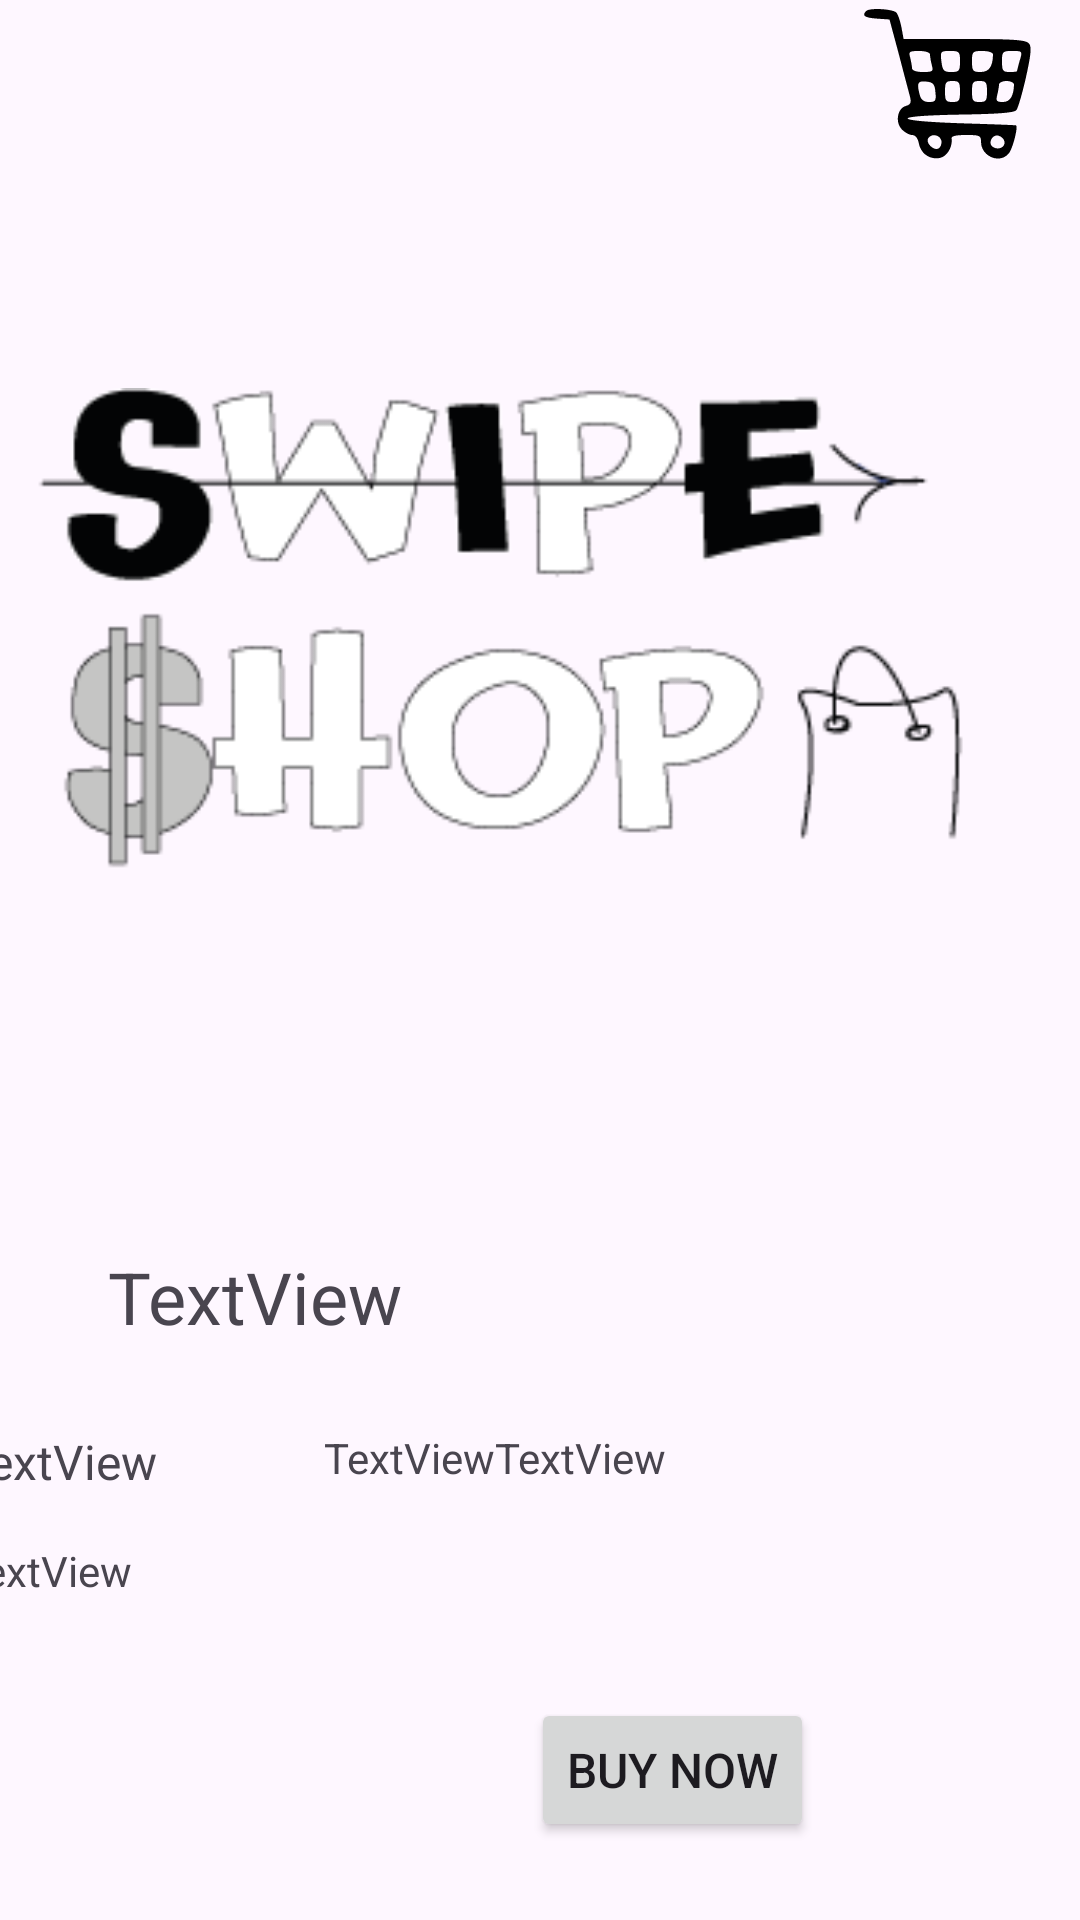

Point at icon controls on the screen. Image size 1080*1920, points as (x=x, y=y).
shoppingcart: (x=947, y=84)
